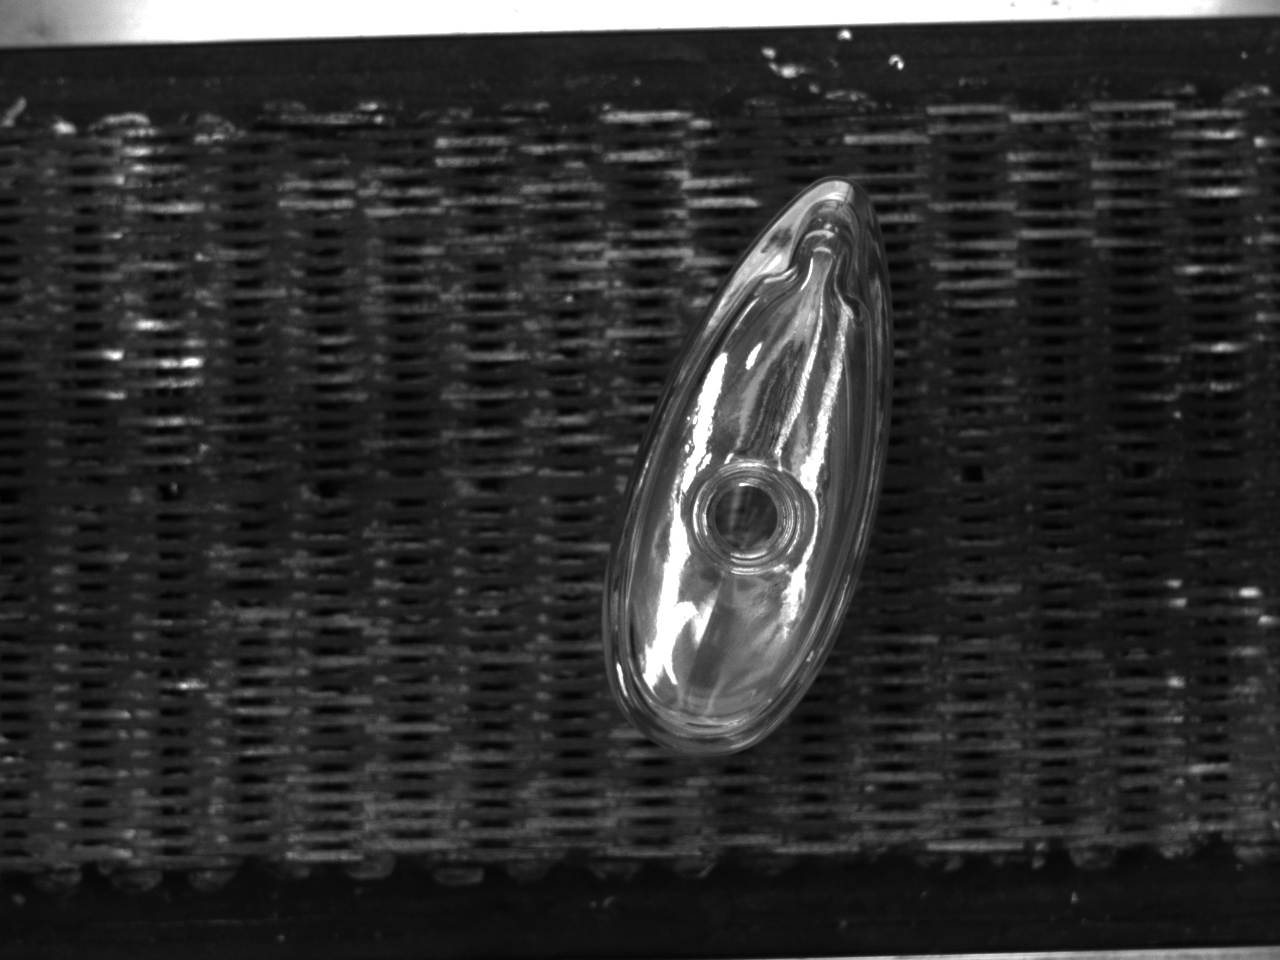bottleneck: (694, 465, 804, 572)
